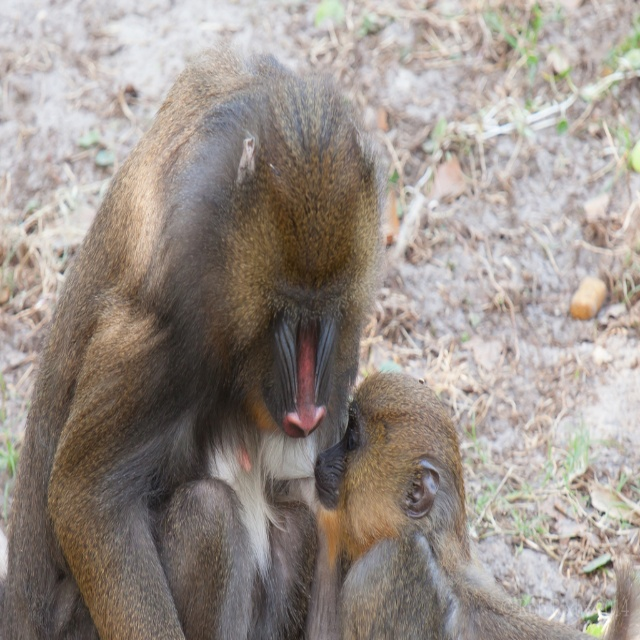Monkey: (0, 38, 393, 639), (318, 375, 637, 639)
